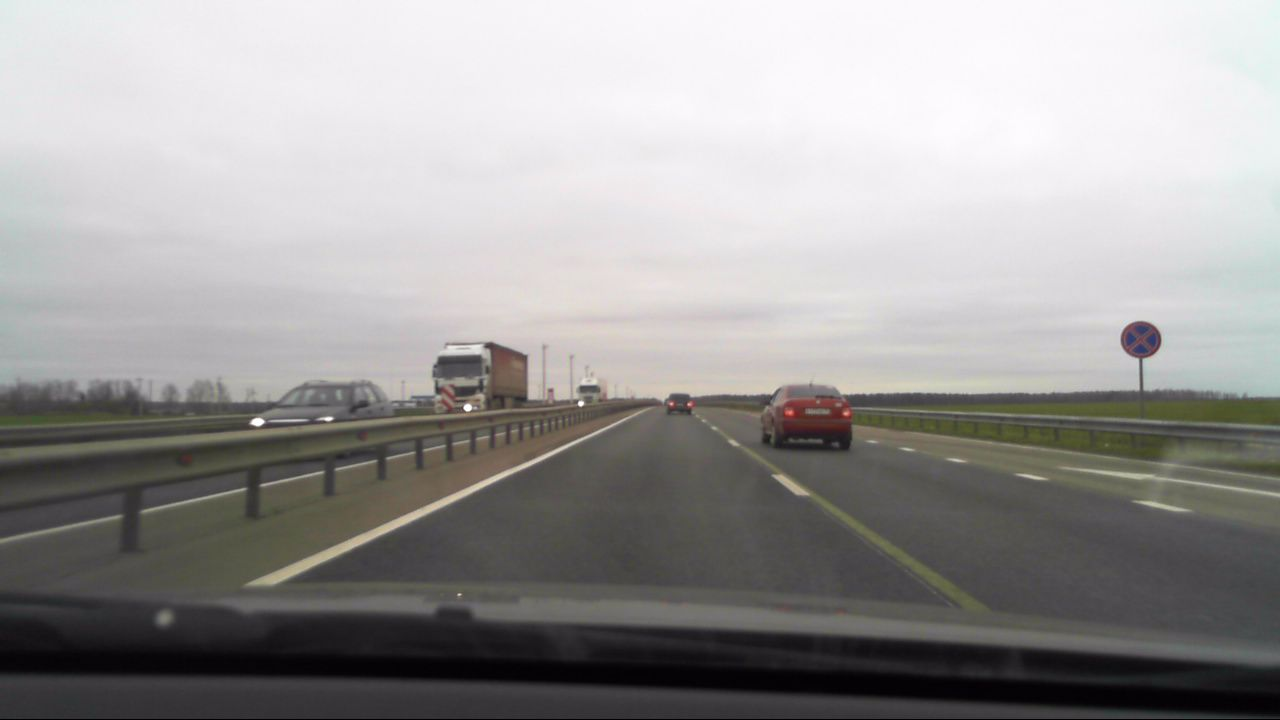No Parking: (1120, 319, 1161, 359)
